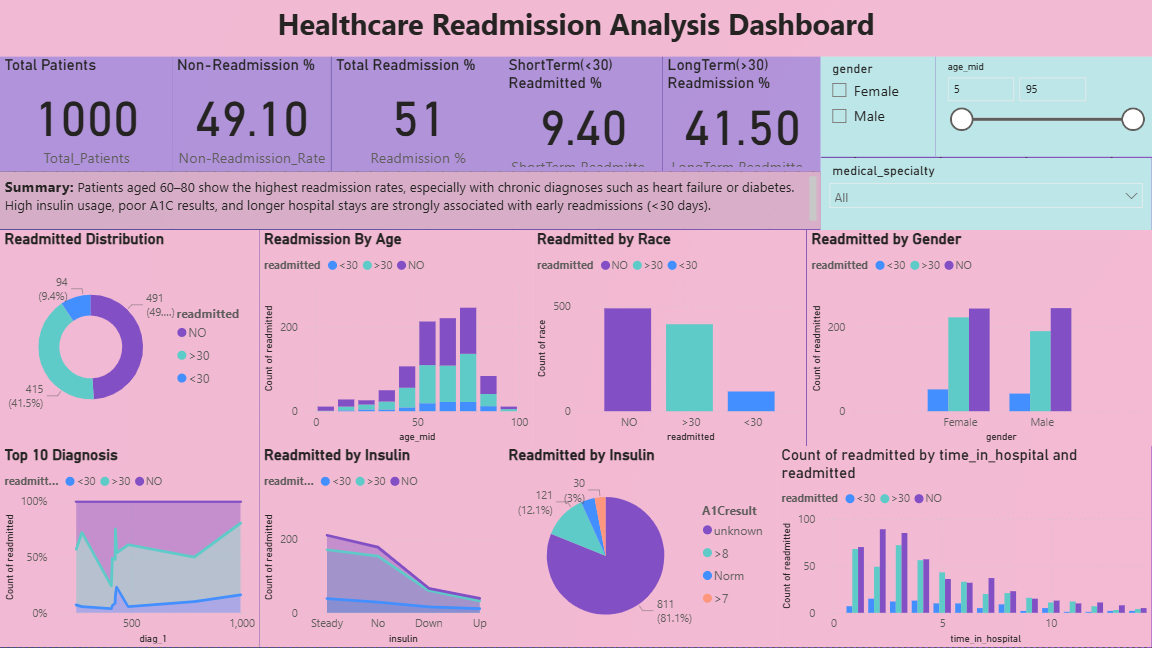

The dashboard page shown, as its layout file describes it:
{"tool":"powerbi","page":{"name":"Page 1","canvas":[1280,720],"ordinal":0},"visuals":[{"type":"card","title":"Non-Readmission %","fields":{"Values":["deep_cleaned_patient_data.Readmission_Rate"]},"box":[192,64,176,128],"z":0},{"type":"card","title":"Total Patients","fields":{"Values":["deep_cleaned_patient_data.Total_Patients"]},"box":[0,64,192,128],"z":1000},{"type":"card","title":"Total Readmission %","fields":{"Values":["deep_cleaned_patient_data.Readmission %"]},"box":[368,64,192,128],"z":2000},{"type":"card","title":"ShortTerm(<30) Readmitted %","fields":{"Values":["deep_cleaned_patient_data.ShortTerm Readmitted %"]},"box":[560,64,176,128],"z":3000},{"type":"card","title":"LongTerm(>30) Readmission %","fields":{"Values":["deep_cleaned_patient_data.LongTerm Readmitted %"]},"box":[736,64,176,128],"z":4000},{"type":"donutChart","title":"Readmitted Distribution","fields":{"Y":["CountNonNull(deep_cleaned_patient_data.readmitted)"],"Category":["deep_cleaned_patient_data.readmitted"]},"box":[0,256,288,240],"z":5000},{"type":"columnChart","title":"Readmission By Age","fields":{"Category":["deep_cleaned_patient_data.age_mid"],"Y":["CountNonNull(deep_cleaned_patient_data.readmitted)"],"Series":["deep_cleaned_patient_data.readmitted"]},"box":[288,256,304,240],"z":6000},{"type":"columnChart","title":"Readmitted by Race","fields":{"Category":["deep_cleaned_patient_data.readmitted"],"Y":["CountNonNull(deep_cleaned_patient_data.race)"],"Series":["deep_cleaned_patient_data.readmitted"]},"box":[592,256,304,240],"z":7000},{"type":"clusteredColumnChart","title":"Readmitted by Gender","fields":{"Category":["deep_cleaned_patient_data.gender"],"Y":["CountNonNull(deep_cleaned_patient_data.readmitted)"],"Series":["deep_cleaned_patient_data.readmitted"]},"box":[896,256,384,240],"z":8000},{"type":"hundredPercentStackedAreaChart","title":"Top 10 Diagnosis","fields":{"Category":["deep_cleaned_patient_data.diag_1"],"Y":["CountNonNull(deep_cleaned_patient_data.readmitted)"],"Series":["deep_cleaned_patient_data.readmitted"]},"box":[0,496,288,224],"z":9000},{"type":"areaChart","title":"Readmitted by Insulin","fields":{"Category":["deep_cleaned_patient_data.insulin"],"Y":["CountNonNull(deep_cleaned_patient_data.readmitted)"],"Series":["deep_cleaned_patient_data.readmitted"]},"box":[288,496,272,224],"z":10000},{"type":"pieChart","title":"Readmitted by Insulin","fields":{"Category":["deep_cleaned_patient_data.A1Cresult","deep_cleaned_patient_data.readmitted"],"Y":["CountNonNull(deep_cleaned_patient_data.readmitted)"]},"box":[560,496,304,224],"z":11000},{"type":"clusteredColumnChart","fields":{"Category":["deep_cleaned_patient_data.time_in_hospital"],"Y":["CountNonNull(deep_cleaned_patient_data.readmitted)"],"Series":["deep_cleaned_patient_data.readmitted"]},"box":[864,496,416,224],"z":12000},{"type":"slicer","fields":{"Values":["deep_cleaned_patient_data.gender"]},"box":[912,64,128,112],"z":13000},{"type":"slicer","fields":{"Values":["deep_cleaned_patient_data.age_mid"]},"box":[1040,64,240,112],"z":14000},{"type":"slicer","fields":{"Values":["deep_cleaned_patient_data.medical_specialty"]},"box":[912,176,368,80],"z":15000},{"type":"textbox","box":[0,0,1280,64],"z":16000},{"type":"textbox","box":[0,192,912,64],"z":16001}]}

Visuals, with their boxes in screenshot pixels (x1, y1, x2, y2), scaled from the page's 1280x720 canvas onto the 1152x648 screenshot:
"Non-Readmission %" card: (173,58,331,173)
"Total Patients" card: (0,58,173,173)
"Total Readmission %" card: (331,58,504,173)
"ShortTerm(<30) Readmitted %" card: (504,58,662,173)
"LongTerm(>30) Readmission %" card: (662,58,821,173)
"Readmitted Distribution" donutChart: (0,230,259,446)
"Readmission By Age" columnChart: (259,230,533,446)
"Readmitted by Race" columnChart: (533,230,806,446)
"Readmitted by Gender" clusteredColumnChart: (806,230,1151,446)
"Top 10 Diagnosis" hundredPercentStackedAreaChart: (0,446,259,647)
"Readmitted by Insulin" areaChart: (259,446,504,647)
"Readmitted by Insulin" pieChart: (504,446,778,647)
clusteredColumnChart - deep_cleaned_patient_data.time_in_hospital x CountNonNull(deep_cleaned_patient_data.readmitted): (778,446,1151,647)
slicer - deep_cleaned_patient_data.gender: (821,58,936,158)
slicer - deep_cleaned_patient_data.age_mid: (936,58,1151,158)
slicer - deep_cleaned_patient_data.medical_specialty: (821,158,1151,230)
textbox: (0,0,1151,58)
textbox: (0,173,821,230)
